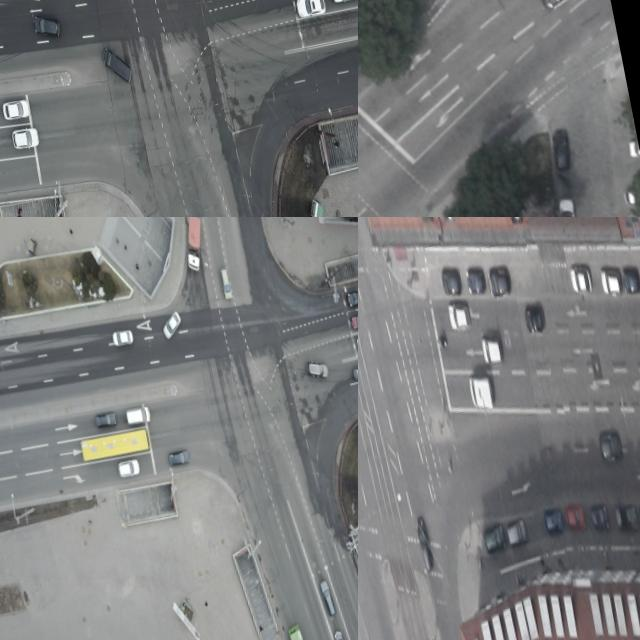UAI: (100, 43, 135, 89), (548, 127, 574, 172), (414, 515, 434, 570), (31, 11, 63, 43), (317, 577, 338, 620), (160, 309, 187, 342), (599, 430, 624, 464), (487, 264, 512, 298), (11, 125, 41, 153), (447, 301, 472, 333), (480, 334, 504, 367), (2, 97, 33, 122), (439, 264, 463, 296), (483, 524, 508, 554), (615, 504, 640, 534), (522, 302, 546, 332), (589, 502, 611, 534), (305, 356, 331, 383), (569, 266, 593, 295), (600, 268, 623, 297), (506, 517, 529, 546), (295, 0, 328, 20), (543, 507, 565, 537), (464, 266, 485, 296), (565, 504, 587, 532), (620, 263, 640, 293), (554, 195, 581, 217), (218, 267, 235, 301), (116, 458, 143, 479), (111, 328, 135, 351), (536, 0, 578, 13), (166, 448, 192, 468), (95, 410, 119, 431), (345, 286, 358, 308), (350, 311, 358, 330), (352, 361, 358, 382)
UAP: (177, 217, 211, 274)
car: (78, 425, 152, 465)
harvester: (467, 372, 496, 413), (124, 404, 153, 428)
